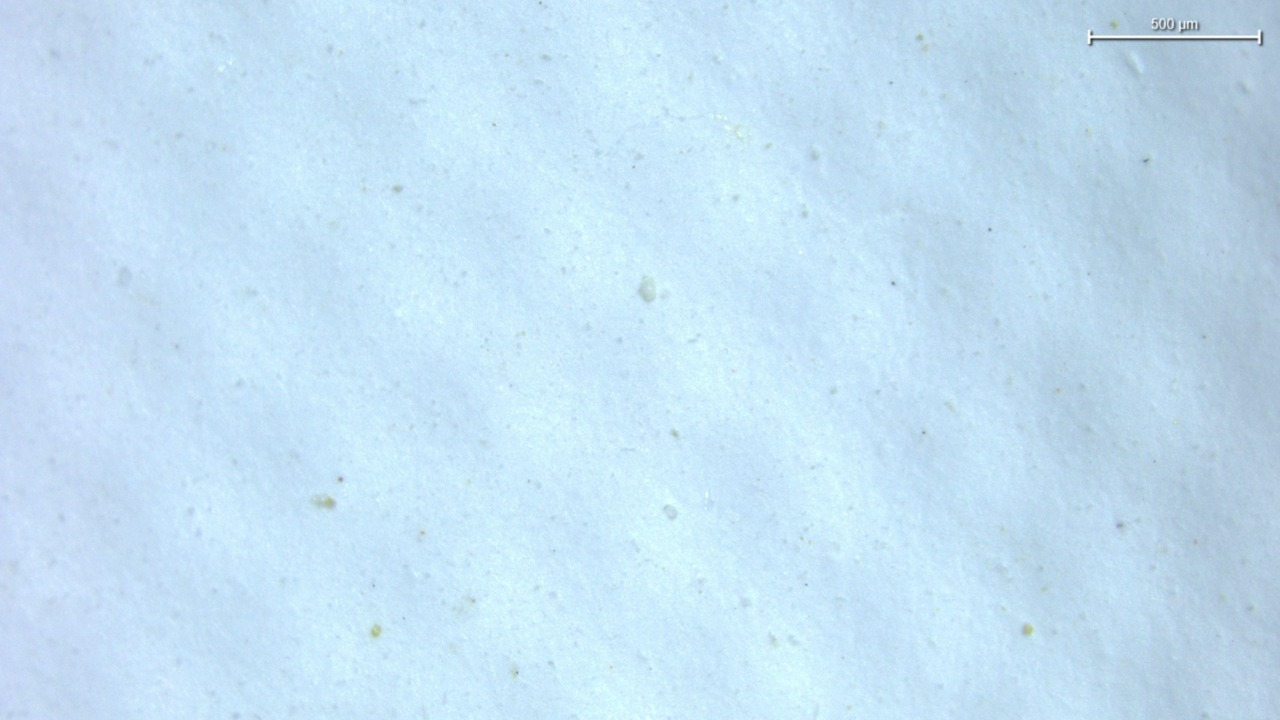microplastic_fragment: (638, 275, 657, 302)
